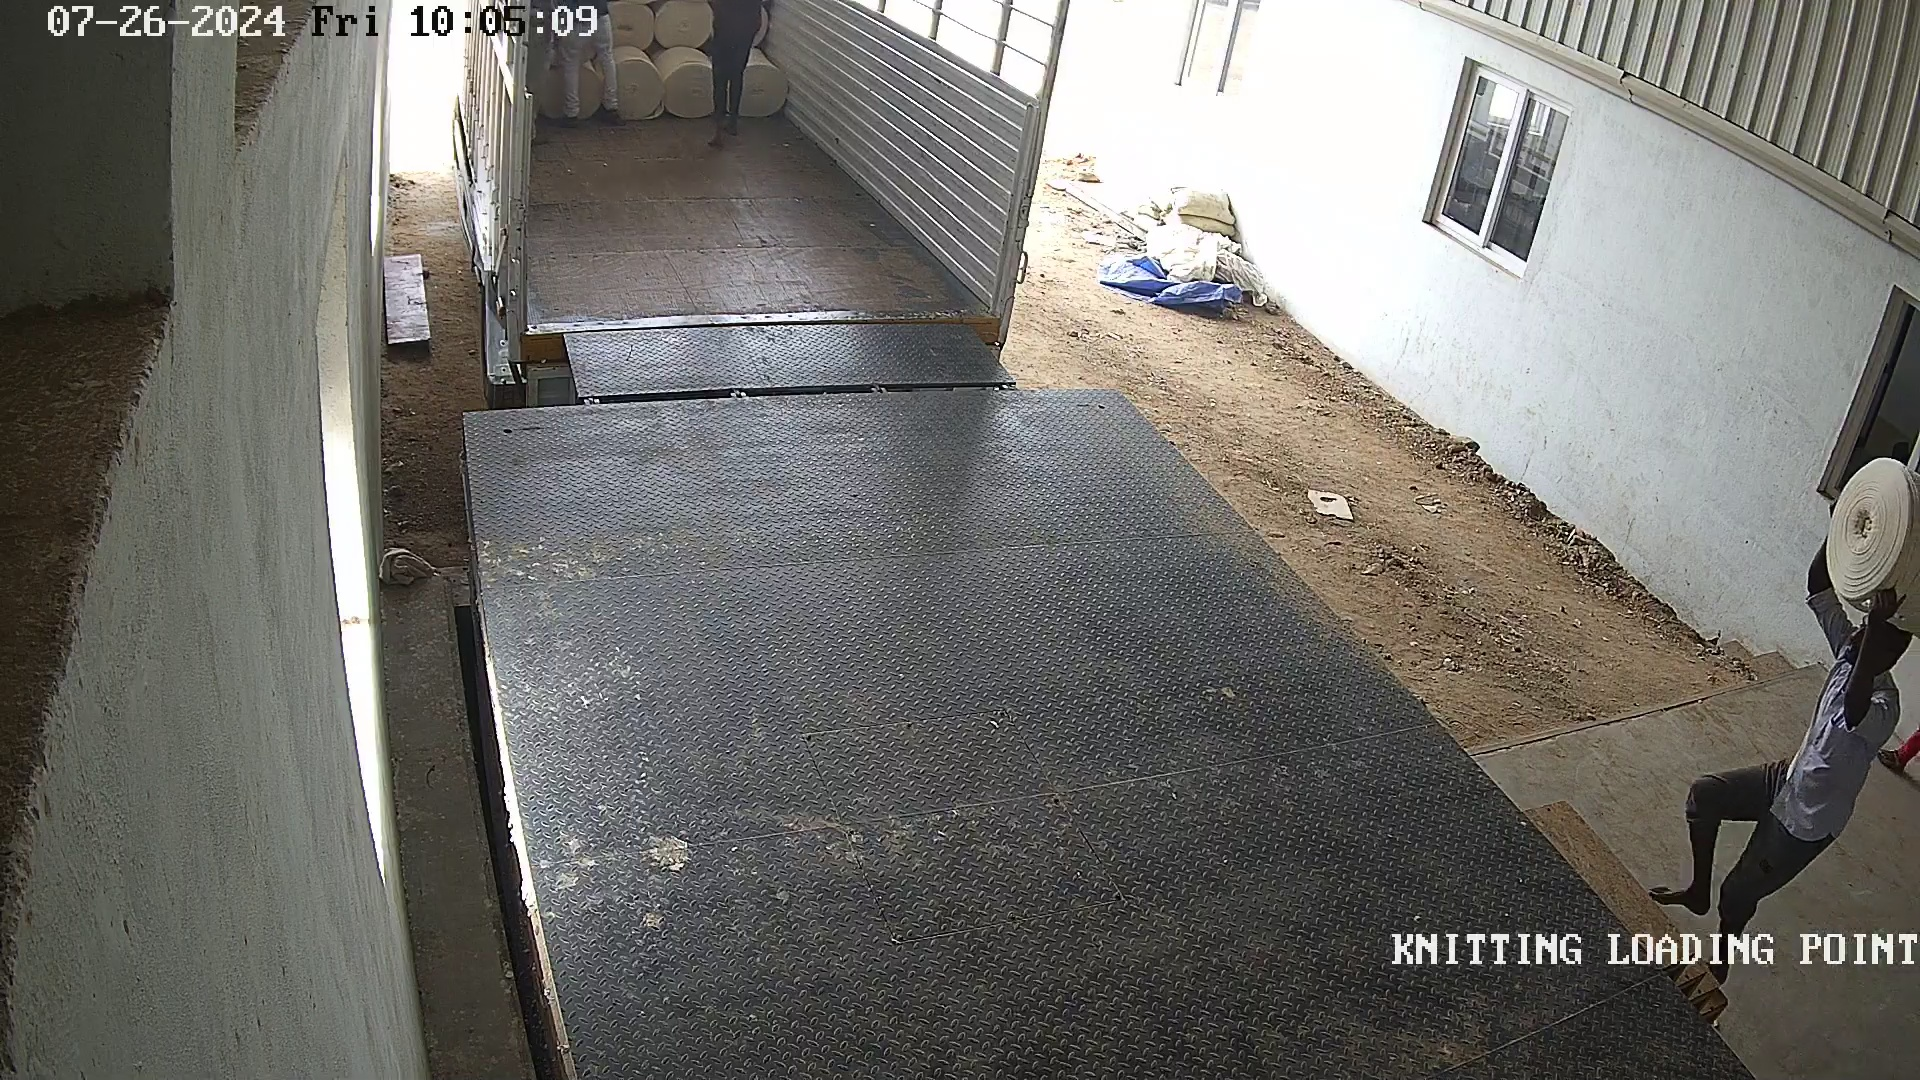bag: (1811, 446, 1920, 644)
